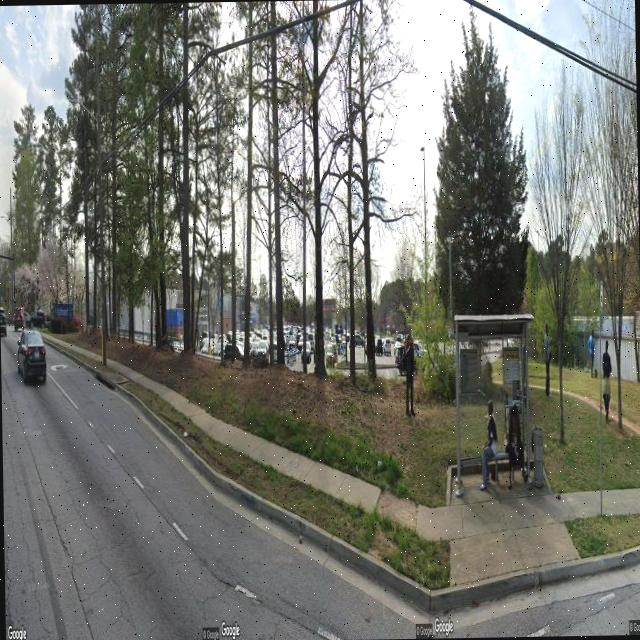seating: (482, 443, 520, 488)
shelter: (452, 309, 536, 496)
trash_can: (532, 426, 544, 488)
